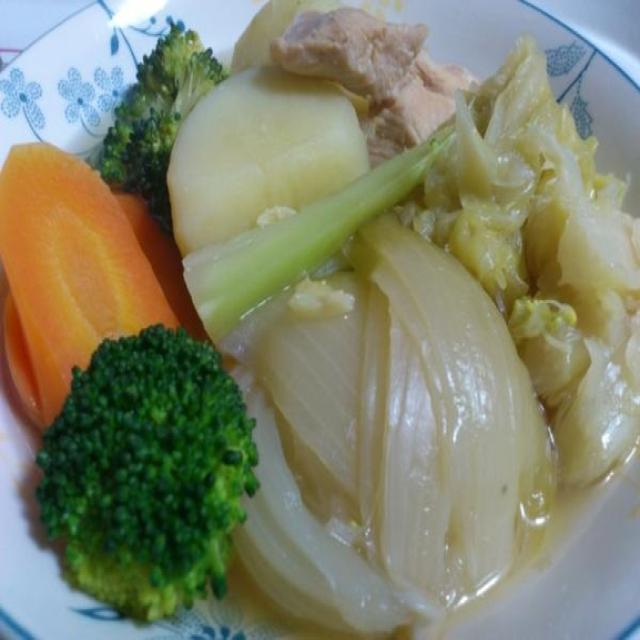汤锅炖物: (8, 20, 631, 620)
